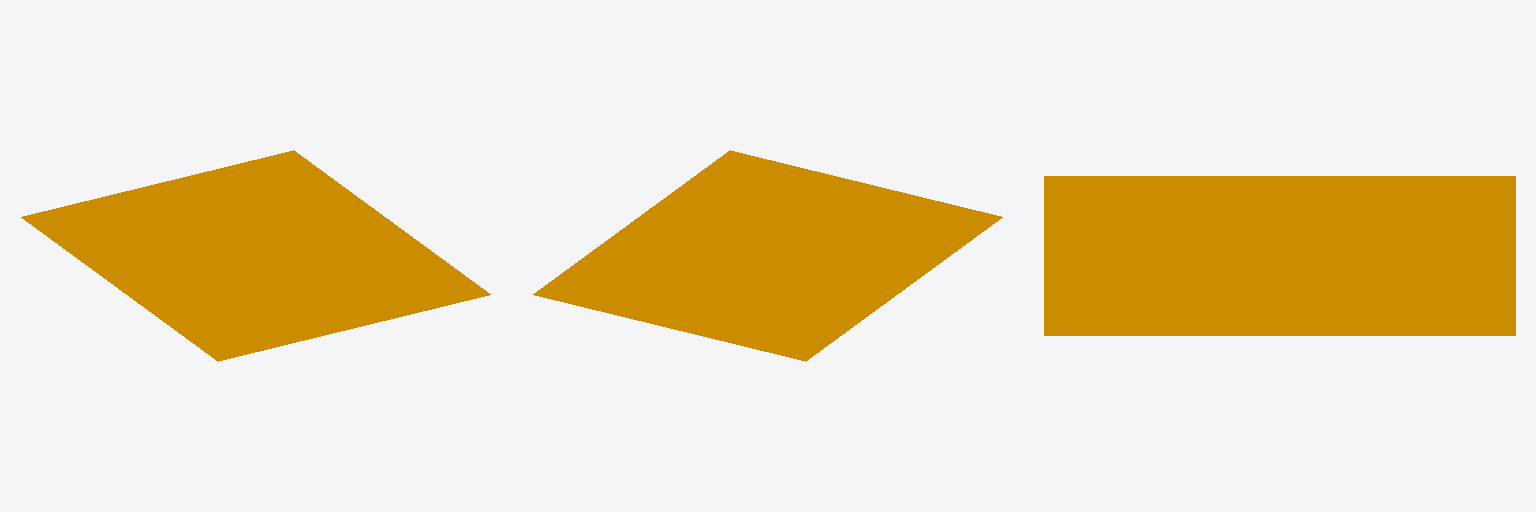
The robot description file, URDF, robot "racing_cart":
<?xml version="1.0"?>
<robot name="racing_cart">	
    <link name="map">
        <visual>		
            <origin xyz="0 0 -1"/>
            <geometry>
                <mesh filename="package://racing/resources/Map.dae" scale="33 33 1"/>
            </geometry>
        </visual>
    </link>
</robot>	

--- What the picture shows (computed from the rendered views, not written in the file) ---
3 views of the same robot in one strip: view 1: azimuth 30°, elevation 25°; view 2: azimuth 150°, elevation 25°; view 3: azimuth 270°, elevation 25° (orthographic).
Model racing_cart with 1 links and 0 joints (none), rooted at map, posed all joints at 0.
Visible links, largest first — view 1: map; view 2: map; view 3: map.
Link boxes in pixels (box(x1,y1,x2,y2)): map: box(21, 150, 490, 361); map: box(533, 150, 1002, 361); map: box(1044, 176, 1515, 335).
Size in the robot's own frame: 33 by 41.25 by 0 metres.
1 mesh visuals loaded from 1 distinct referenced files (1 Collada DAE).
